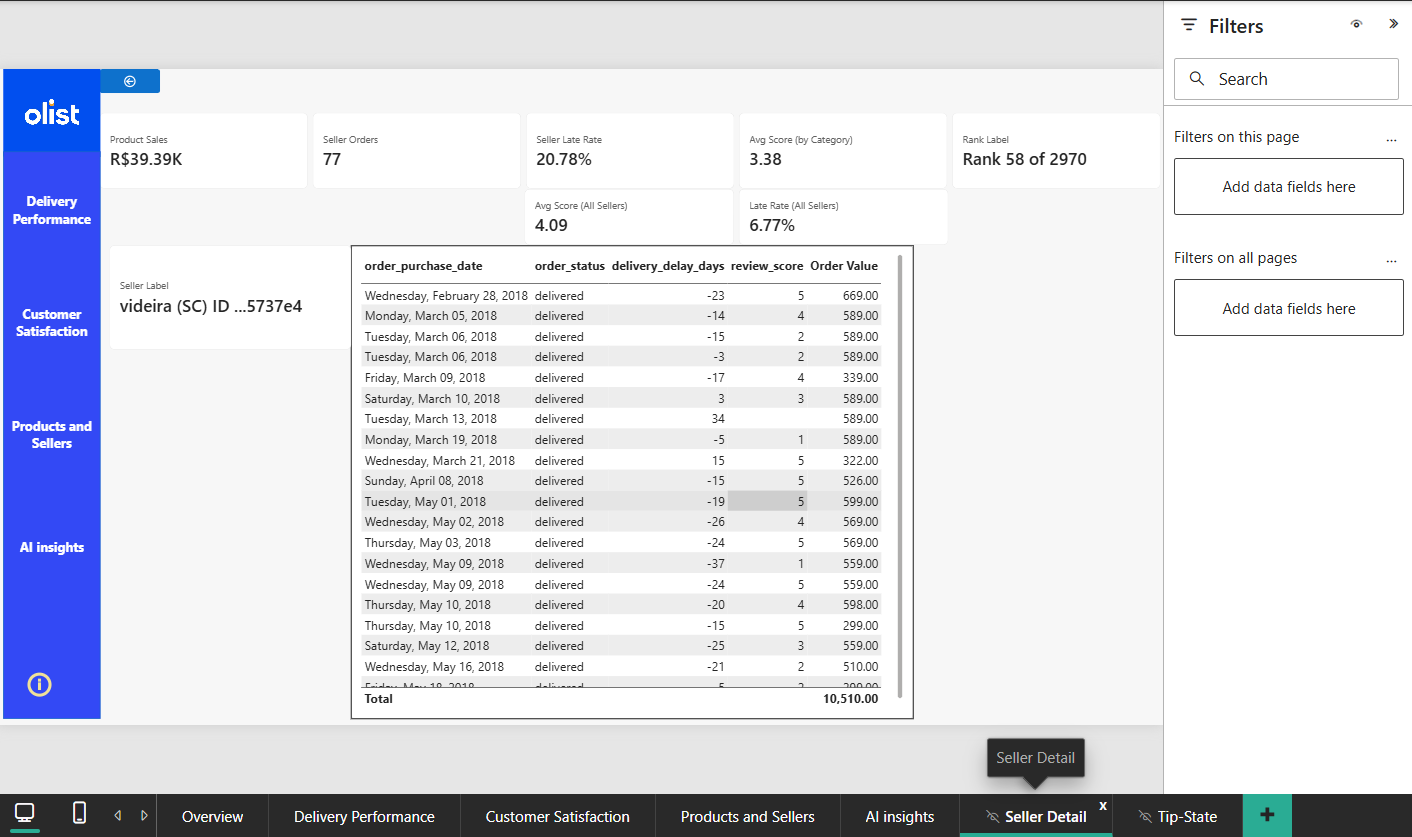

This screenshot's page, from the dashboard's own definition file:
{"tool":"powerbi","page":{"name":"Seller Detail","canvas":[1920,1080],"ordinal":5},"visuals":[{"type":"actionButton","box":[169.8,0,100,40],"z":0},{"type":"cardVisual","title":"Top Card","fields":{"Data":["order_items.Product Sales","sellers.Seller Orders","sellers.Seller Late Rate","reviews.Avg Score (by Category)","sellers.Rank Label"]},"box":[169.2,71.5,1751.2,125.6],"z":1000},{"type":"tableEx","fields":{"Values":["orders.order_purchase_date","orders.order_status","orders.delivery_delay_days","reviews.review_score","order_items.Order Value"]},"box":[582.5,290.2,926.2,780.1],"z":2000},{"type":"image","box":[10,0,160,144],"z":3000},{"type":"shape","box":[10,136,160,934],"z":4000},{"type":"pageNavigator","box":[10,144,160,734],"z":5000},{"type":"actionButton","box":[10,962,119.4,105],"z":6000},{"type":"cardVisual","title":"Seller Lable","fields":{"Data":["sellers.Seller Label"]},"box":[185.2,290.2,398,172],"z":7000},{"type":"cardVisual","title":"Bottom Card","fields":{"Data":["sellers.Avg Score (All Sellers)","sellers.Late Rate (All Sellers)"]},"box":[869.5,197.8,698.5,92.7],"z":8000}]}

Visuals, with their boxes on the page's 1920x1080 design canvas (x1, y1, x2, y2). These are canvas units, not pixel positions in the 1412x837 screenshot, which may show the page scaled, cropped or inside an application window:
actionButton: <box>170,0,270,40</box>
"Top Card" cardVisual: <box>169,72,1920,197</box>
tableEx - orders.order_purchase_date x orders.order_status: <box>582,290,1509,1070</box>
image: <box>10,0,170,144</box>
shape: <box>10,136,170,1070</box>
pageNavigator: <box>10,144,170,878</box>
actionButton: <box>10,962,129,1067</box>
"Seller Lable" cardVisual: <box>185,290,583,462</box>
"Bottom Card" cardVisual: <box>870,198,1568,290</box>
